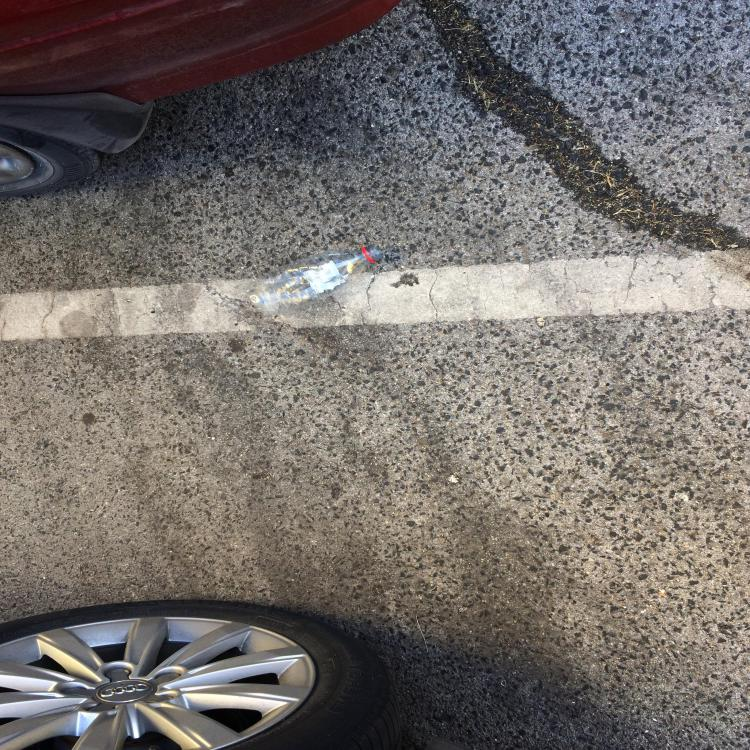Clear plastic bottle: (247, 244, 383, 316)
